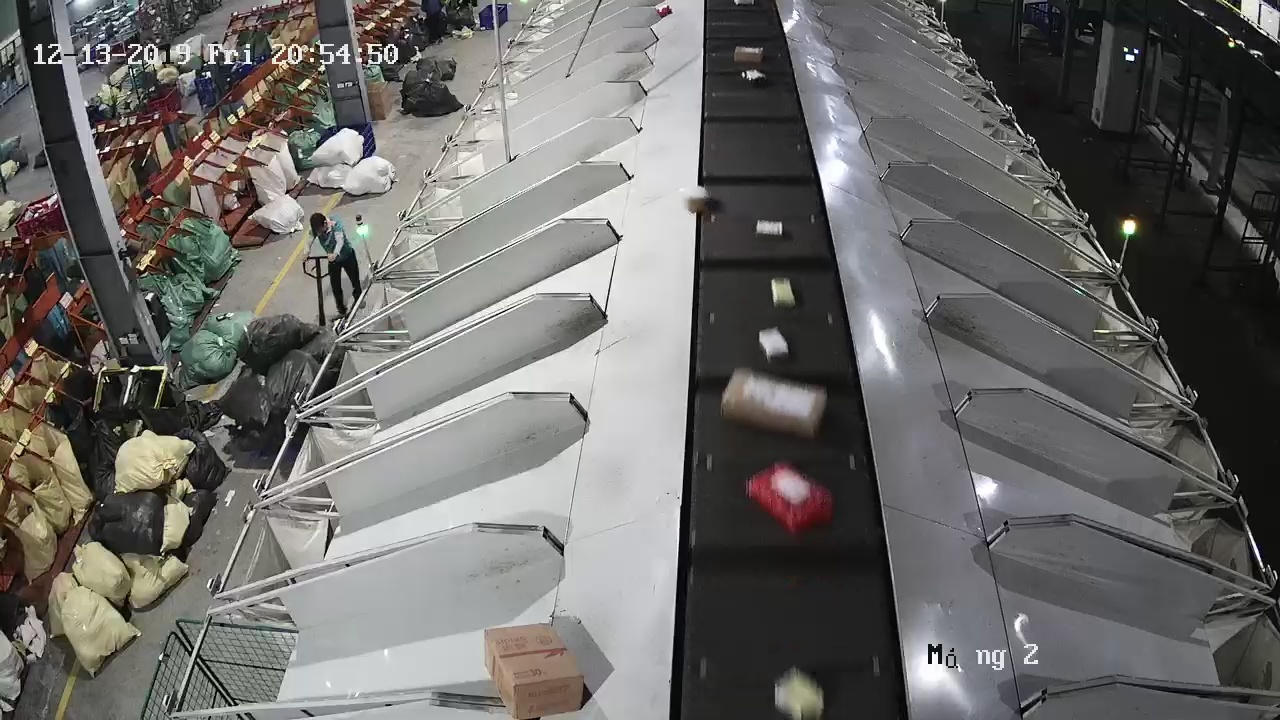parcel: (679, 185, 713, 213)
